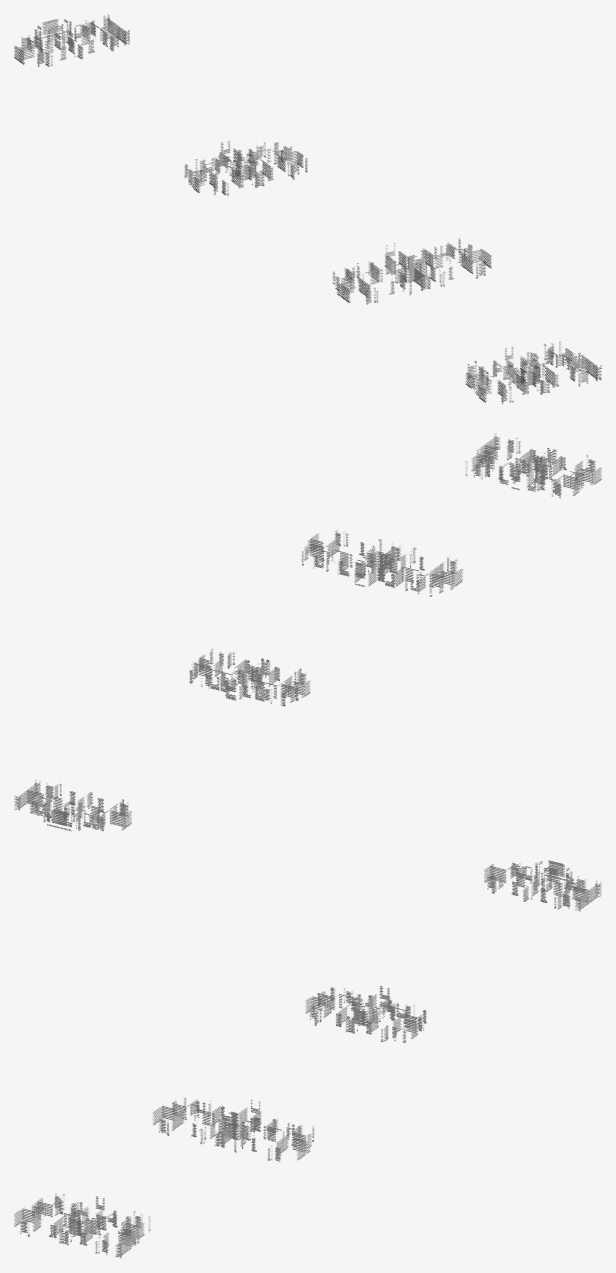
Rendered from labels.glb.
3 renders of one model, top to bottom at view 1: azimuth 30°, elevation 25°; view 2: azimuth 150°, elevation 25°; view 3: azimuth 330°, elevation 25°, orthographic.
Visible parts, largest first — view 1: L_F02; view 2: L_F02; view 3: L_F02.
Part boxes in pixels (x1,y1,x2,y2): L_F02: [14, 14, 601, 403]; L_F02: [14, 433, 601, 831]; L_F02: [14, 861, 601, 1258].
Bounding box in the file's own units: 28.4 × 3.79 × 169.
1 material, 1 textured.
